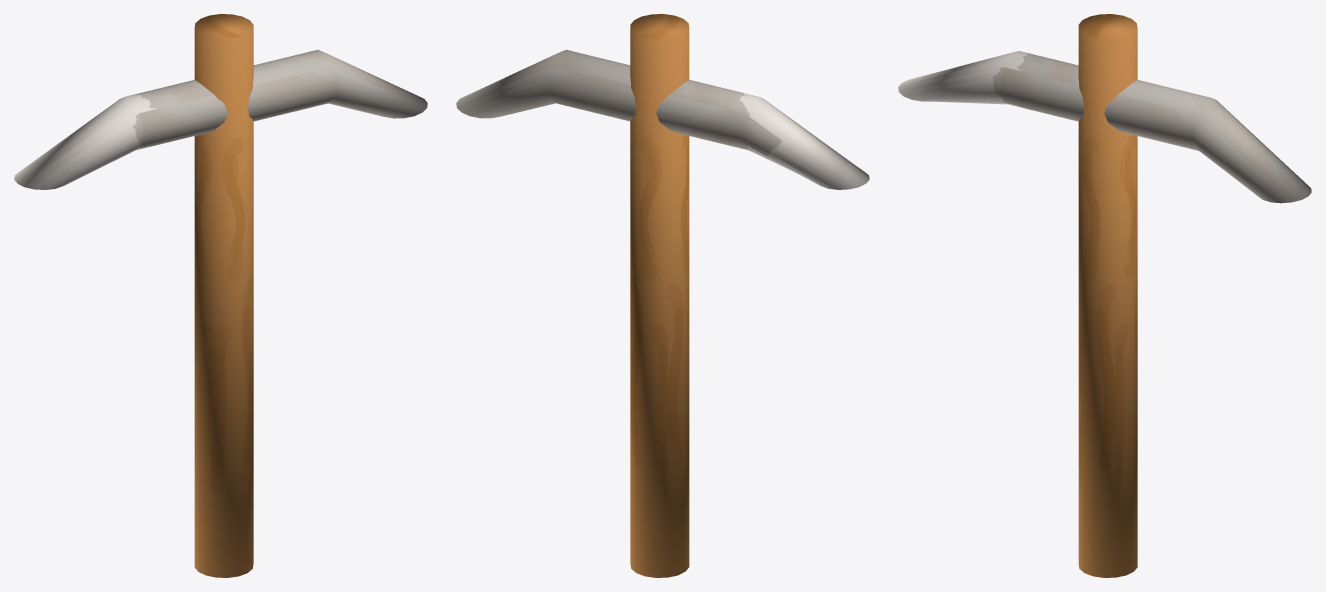
File: pickaxe.fbx
3 renders of one model, left to right at view 1: azimuth 30°, elevation 25°; view 2: azimuth 150°, elevation 25°; view 3: azimuth 330°, elevation 25°, orthographic.
Parts seen in each view (by area): view 1: Cylinder; view 2: Cylinder; view 3: Cylinder.
Part boxes in pixels (bbox=[...]): Cylinder: bbox=[14, 14, 427, 577]; Cylinder: bbox=[456, 14, 869, 577]; Cylinder: bbox=[898, 14, 1311, 577].
Size of the model in its own units: 474 by 600 by 60.
